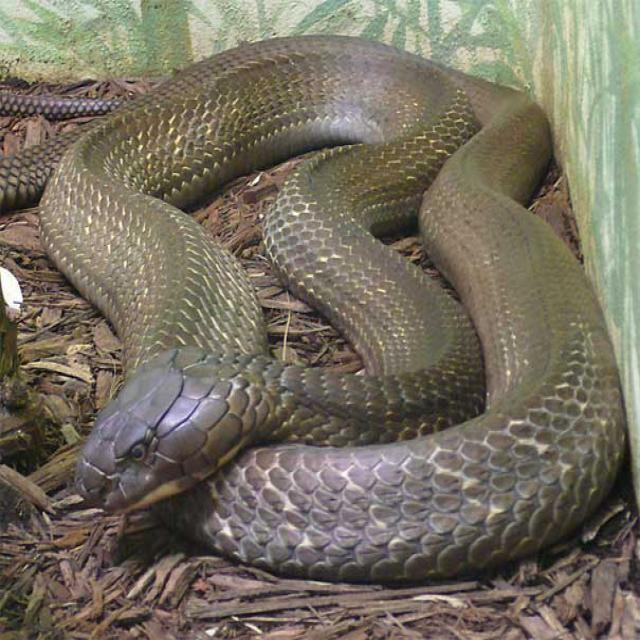Snake: (0, 32, 628, 583)
